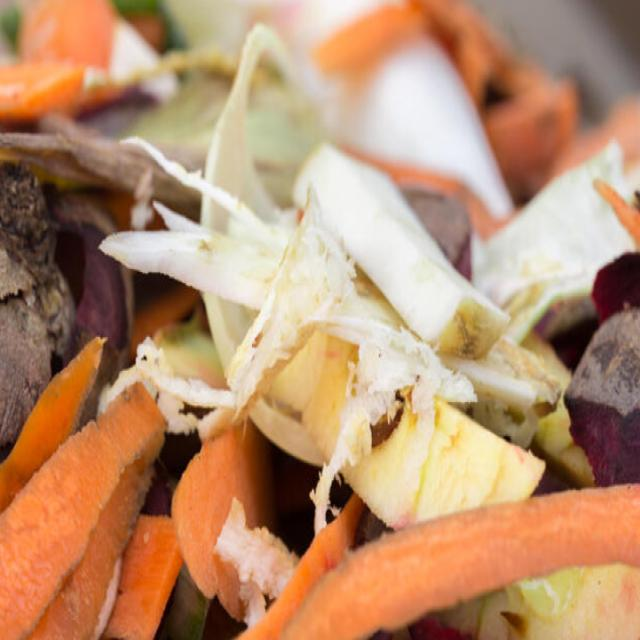paper: (239, 446, 640, 619), (0, 356, 179, 637), (1, 10, 161, 136)
